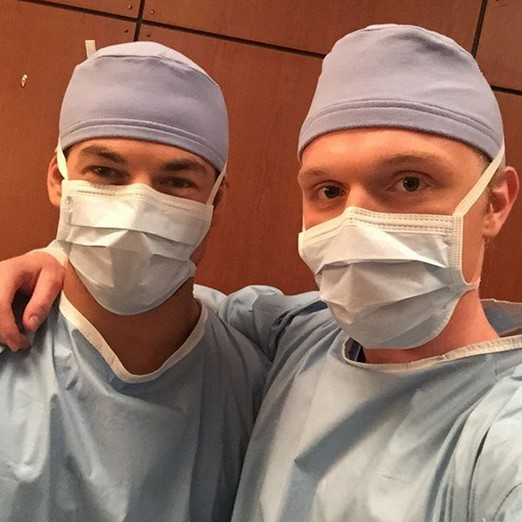face_with_mask: (287, 24, 519, 354), (47, 44, 232, 319)
